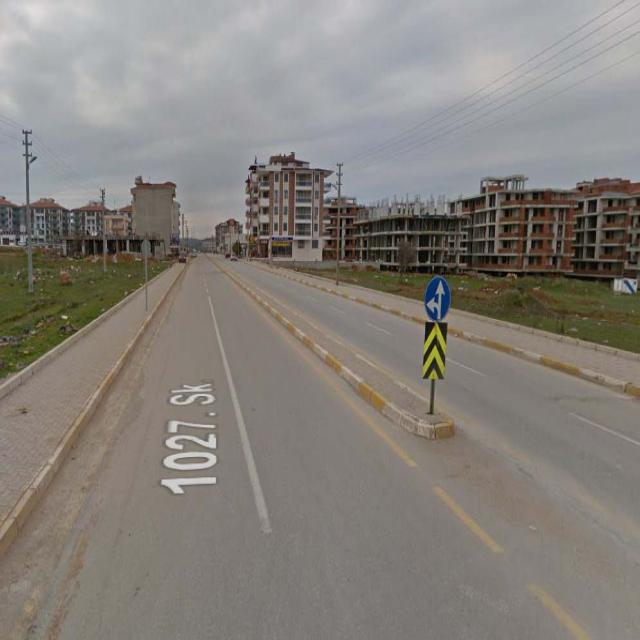ilerisol: (426, 273, 450, 323)
